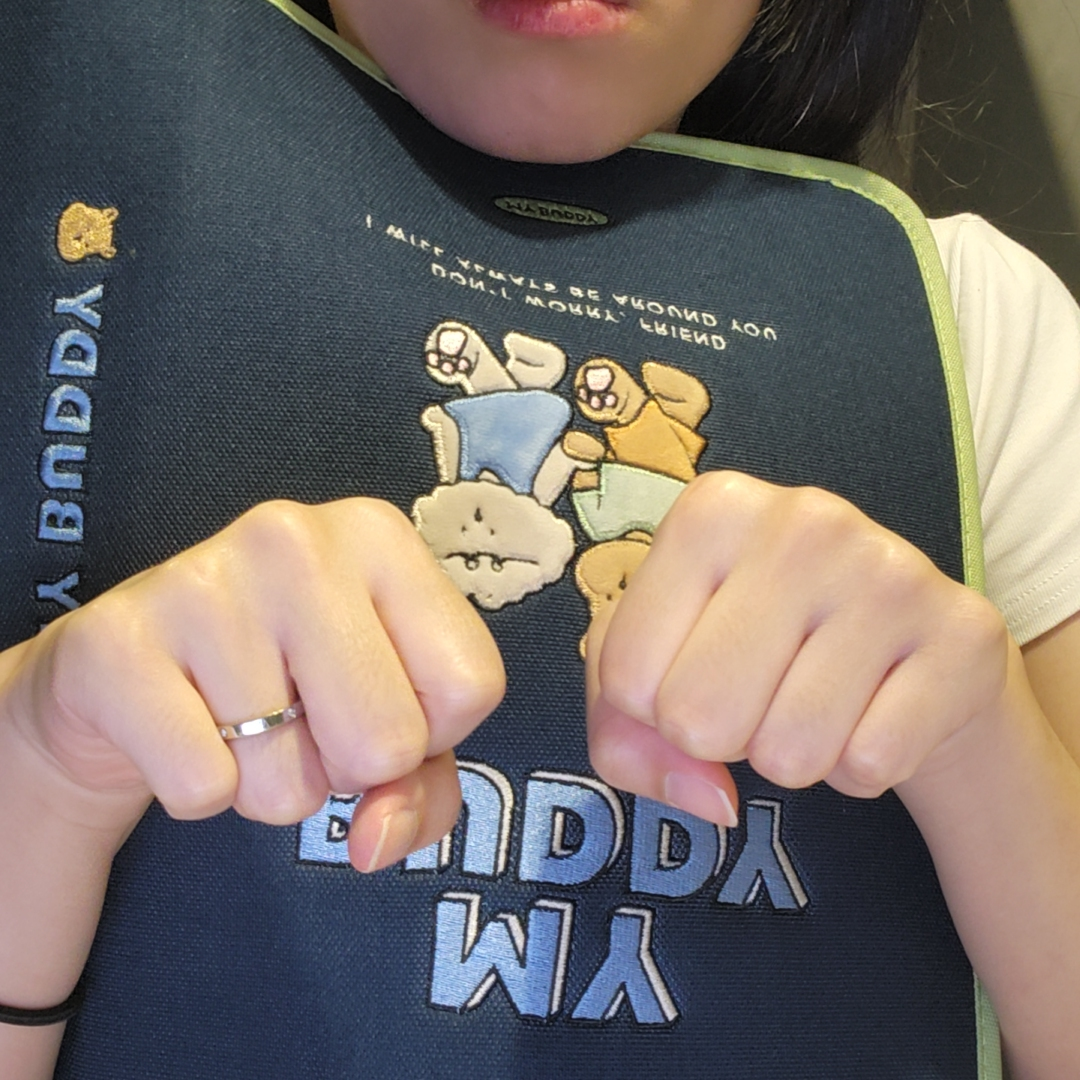hello: (77, 468, 1006, 875)
